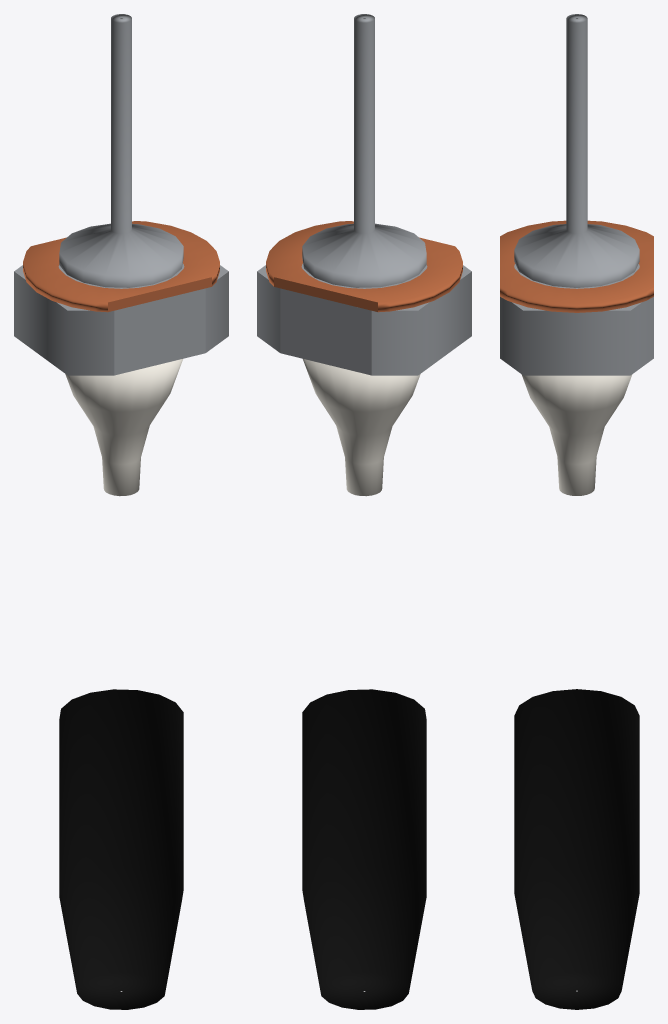
File: spark-plug.glb
3 renders of one model, left to right at view 1: azimuth 30°, elevation 25°; view 2: azimuth 150°, elevation 25°; view 3: azimuth 270°, elevation 25°, orthographic.
Visible parts, largest first — view 1: spark-plug:rubber, spark-plug:steel, spark-plug:ceramic, spark-plug:copper; view 2: spark-plug:rubber, spark-plug:steel, spark-plug:ceramic, spark-plug:copper; view 3: spark-plug:rubber, spark-plug:steel, spark-plug:ceramic, spark-plug:copper.
Part boxes in pixels (box(x1,y1,x2,y2)): spark-plug:rubber: box(59, 689, 183, 1009); spark-plug:steel: box(14, 14, 228, 375); spark-plug:ceramic: box(65, 359, 182, 496); spark-plug:copper: box(23, 221, 219, 312); spark-plug:rubber: box(302, 689, 426, 1009); spark-plug:steel: box(257, 14, 471, 375); spark-plug:ceramic: box(303, 359, 420, 496); spark-plug:copper: box(266, 221, 462, 312); spark-plug:rubber: box(514, 689, 639, 1009); spark-plug:steel: box(500, 14, 653, 375); spark-plug:ceramic: box(521, 374, 632, 495); spark-plug:copper: box(500, 220, 653, 312).
Size of the model in its own units: 22 by 120 by 17.2.
